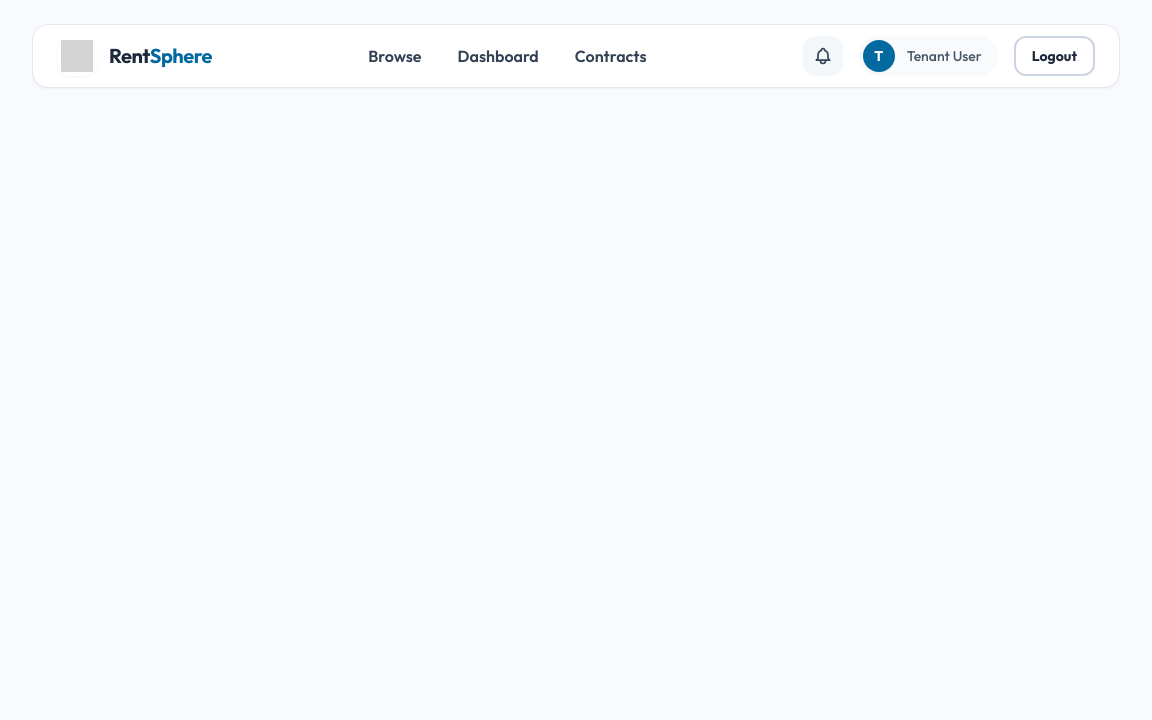
Test: Navbar › clicking Cancel in logout modal hides the modal
The image size is (1152, 720).
What coordinates should you click on to do the following:
click the button "Logout"
I would click on:
 (1054, 56)
Its box is top-left (1014, 36), bottom-right (1095, 76).
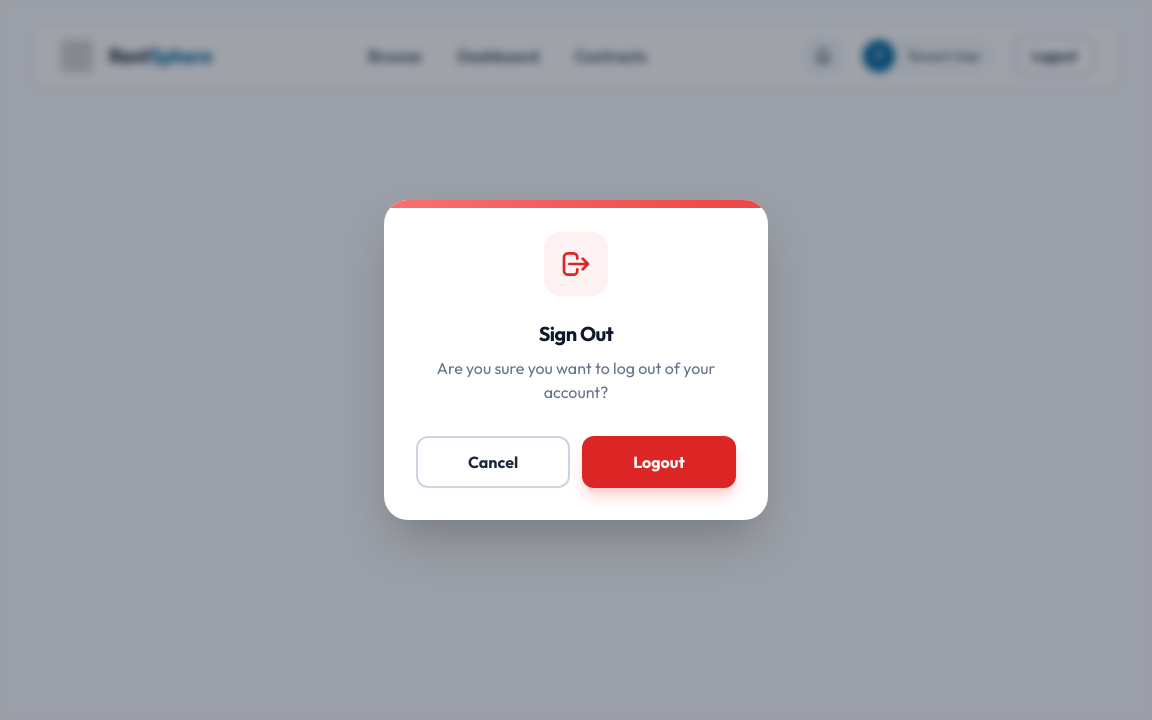
Note: Cancel button is inside the modal
What coordinates should you click on to do the following:
click the button "Cancel"
I would click on:
 (493, 462)
Its box is top-left (416, 436), bottom-right (570, 488).
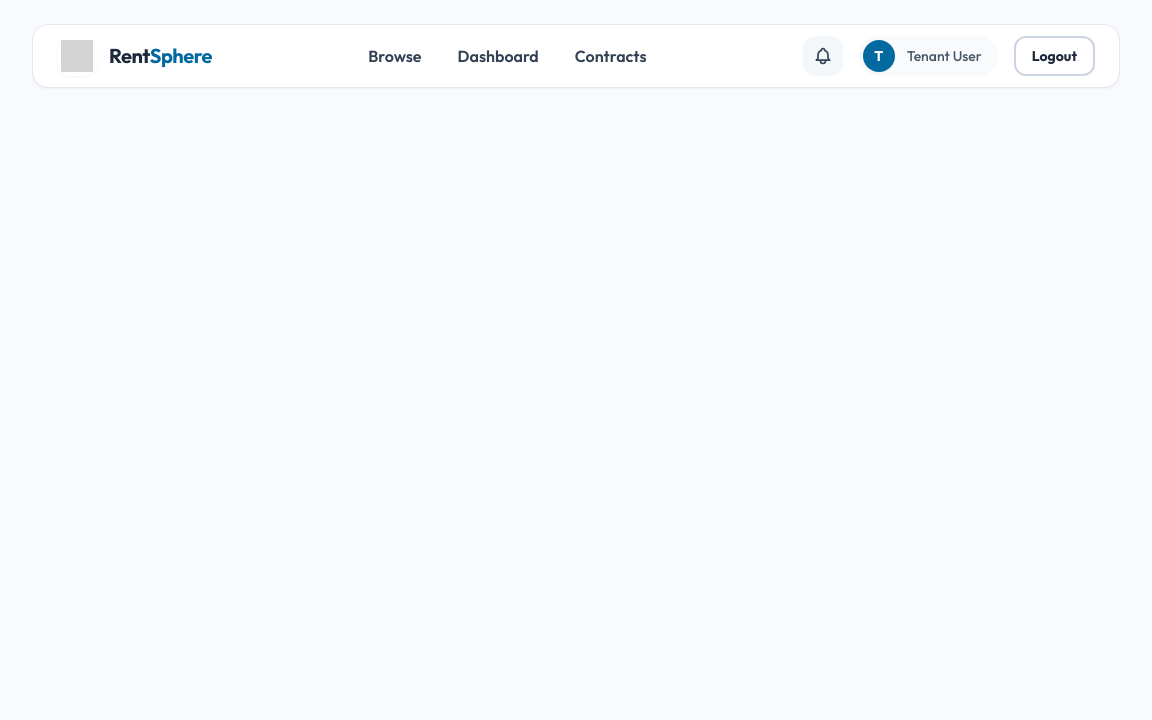
Expected: the heading "Sign Out" is gone
